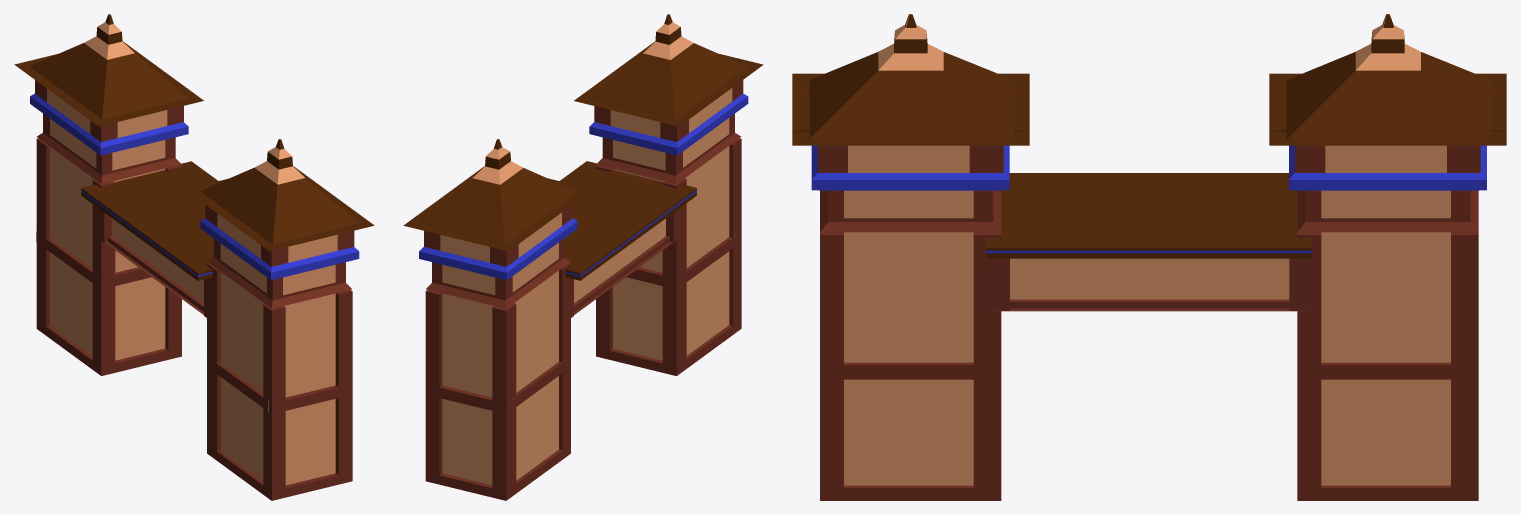
File: entranceWall_structure.fbx
3 renders of one model, left to right at view 1: azimuth 30°, elevation 25°; view 2: azimuth 150°, elevation 25°; view 3: azimuth 270°, elevation 25°, orthographic. The views are drawn at different scales.
Parts seen in each view (by area): view 1: Cube, Cube.002, Cube.005, Cube.001, Cube.003, Cube.004; view 2: Cube.002, Cube, Cube.005, Cube.003, Cube.001, Cube.004; view 3: Cube, Cube.002, Cube.005, Cube.001, Cube.003, Cube.004, Plane.
Boxes of the visible parts, bbox=[...] form: Cube: bbox=[185, 166, 374, 500]; Cube.002: bbox=[14, 41, 203, 375]; Cube.005: bbox=[81, 161, 217, 280]; Cube.001: bbox=[200, 139, 358, 244]; Cube.003: bbox=[29, 14, 188, 119]; Cube.004: bbox=[97, 207, 211, 321]; Cube.002: bbox=[403, 166, 592, 500]; Cube: bbox=[574, 41, 763, 375]; Cube.005: bbox=[559, 161, 696, 280]; Cube.003: bbox=[418, 139, 577, 244]; Cube.001: bbox=[589, 14, 747, 119]; Cube.004: bbox=[567, 207, 681, 320]; Cube: bbox=[792, 73, 1029, 500]; Cube.002: bbox=[1269, 73, 1506, 500]; Cube.005: bbox=[985, 173, 1311, 258]; Cube.001: bbox=[808, 14, 1014, 139]; Cube.003: bbox=[1285, 14, 1491, 139]; Cube.004: bbox=[988, 258, 1308, 311]; Plane: bbox=[991, 308, 1310, 311].
Bounding box in the file's own units: 300 × 854 × 1205.
